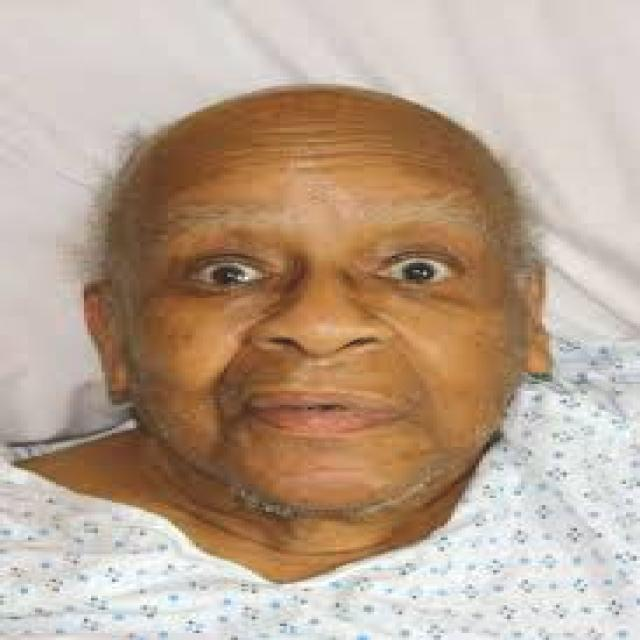stroke_face: (84, 83, 555, 515)
